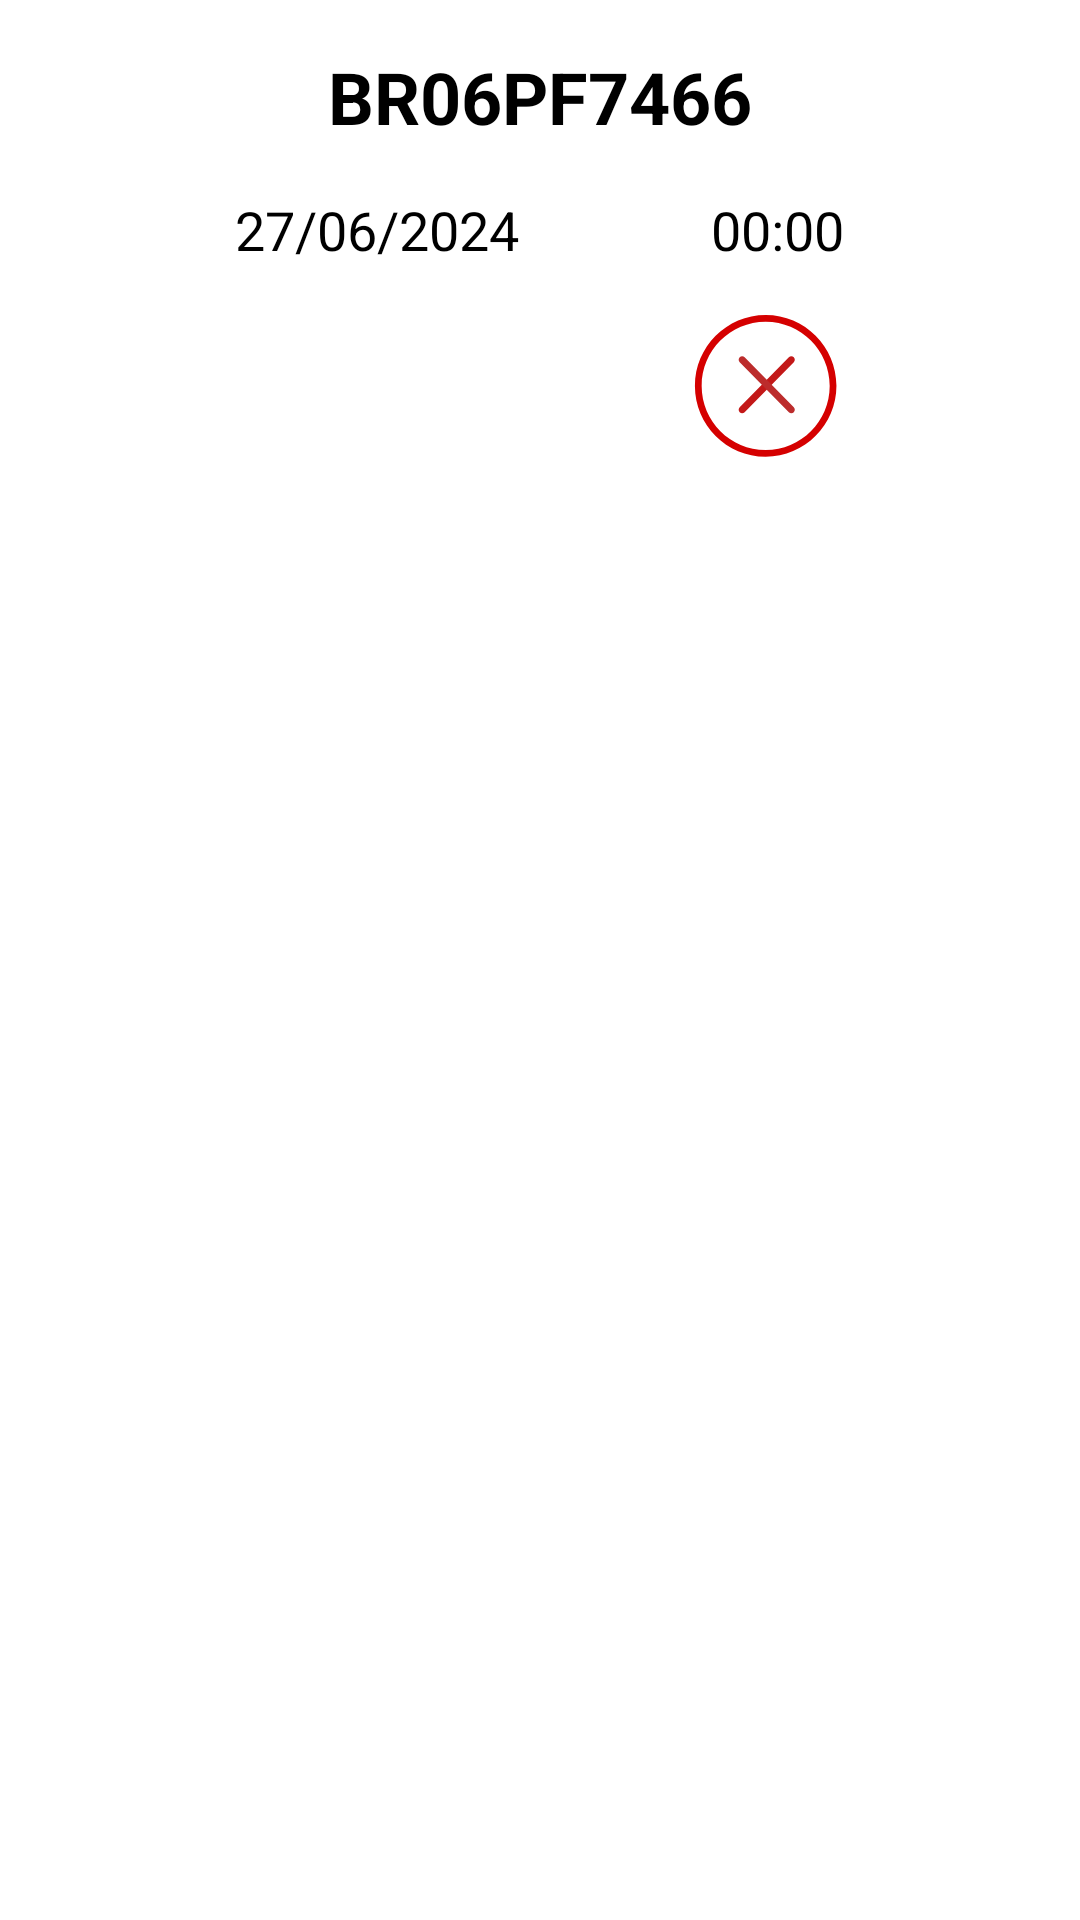

Screen size 1080 × 1920. Icon name, then its center in pixels as [x,y]:
wrong: [766,386]
